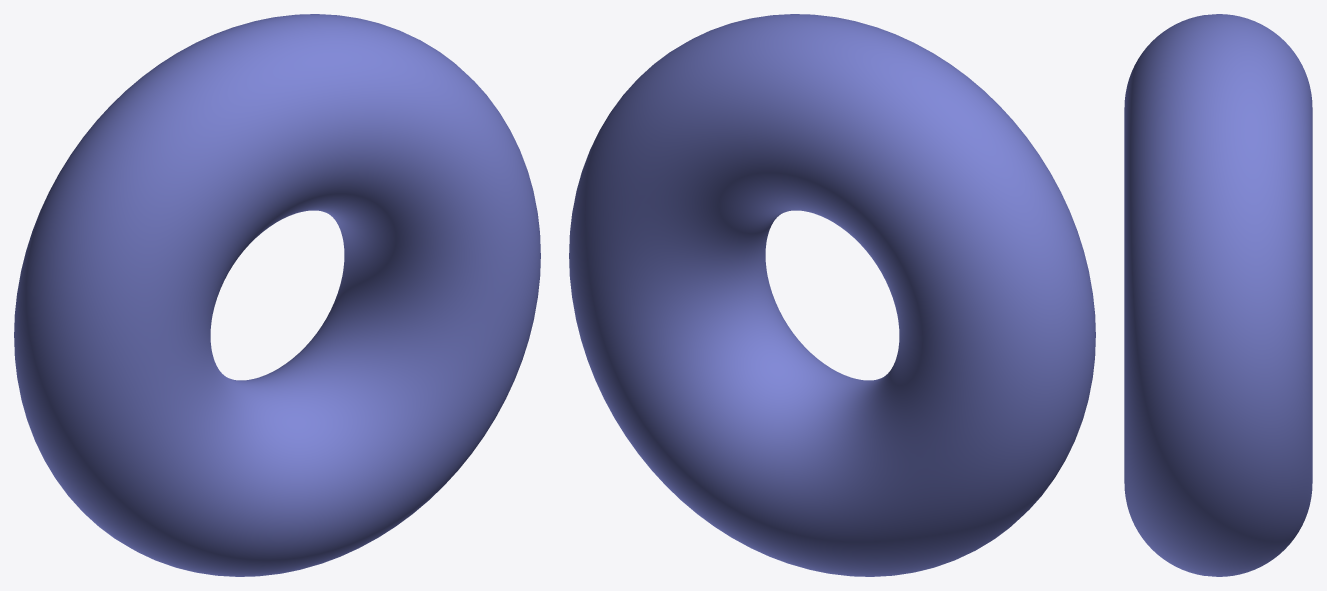
Rendered from EnemyBullet02.fbx.
The picture shows the model from 3 angles, left to right: view 1: azimuth 30°, elevation 25°; view 2: azimuth 150°, elevation 25°; view 3: azimuth 270°, elevation 25°; orthographic projection. The views are drawn at different scales.
Parts seen in each view (by area): view 1: root.001; view 2: root.001; view 3: root.001.
Boxes of the visible parts, <box> form: root.001: <box>14,14,540,576</box>; root.001: <box>569,14,1095,576</box>; root.001: <box>1124,14,1312,576</box>.
Size of the model in its own units: 245 by 251 by 83.38.
